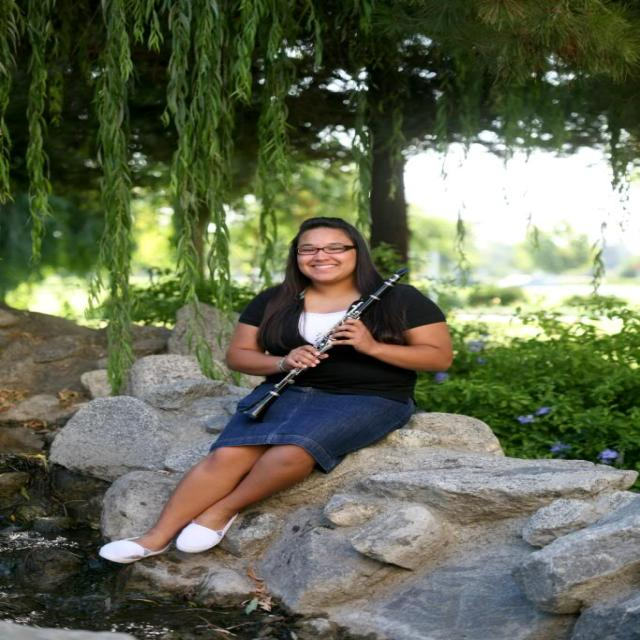clarinet: (239, 266, 411, 424)
